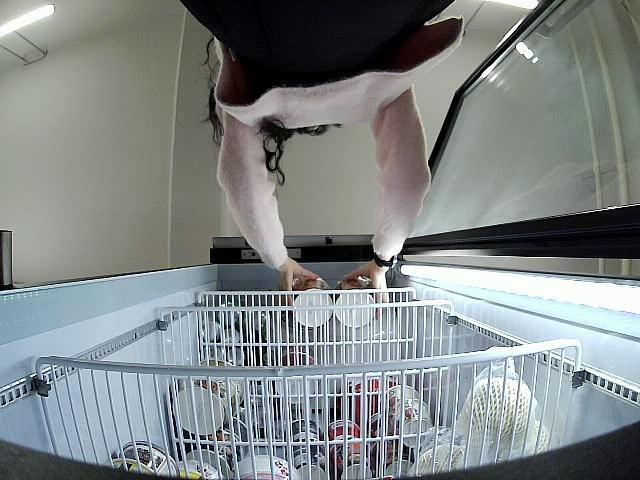00_hand: (339, 261, 391, 318), (277, 261, 319, 297)
05_nuguri_L: (331, 276, 376, 329), (290, 276, 334, 327)
